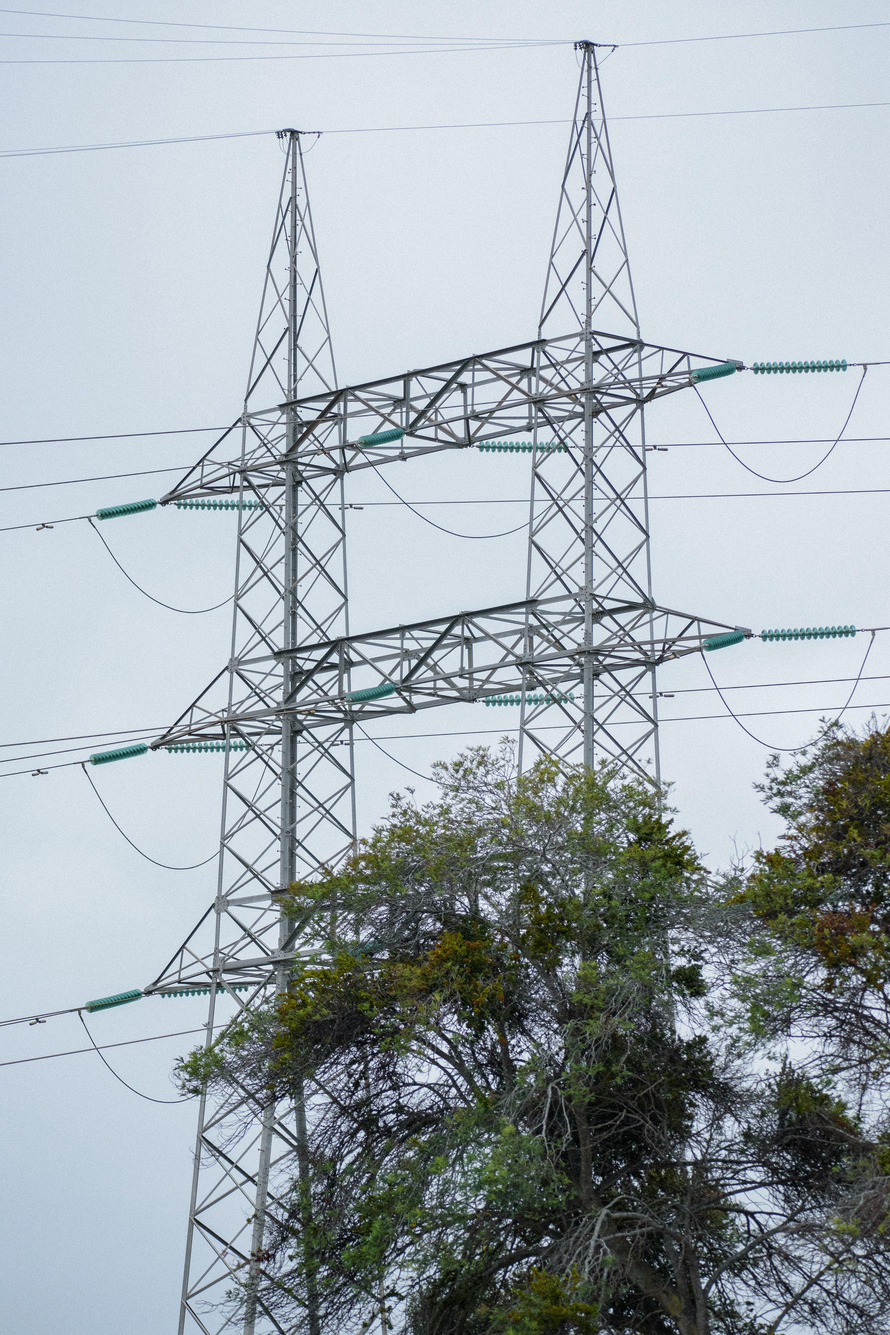insulator: (81, 978, 161, 1015), (86, 733, 155, 775), (473, 692, 602, 713), (760, 623, 865, 648), (473, 435, 582, 458), (160, 739, 268, 762), (169, 498, 299, 514), (740, 361, 865, 375), (351, 429, 420, 453), (95, 498, 160, 522)
